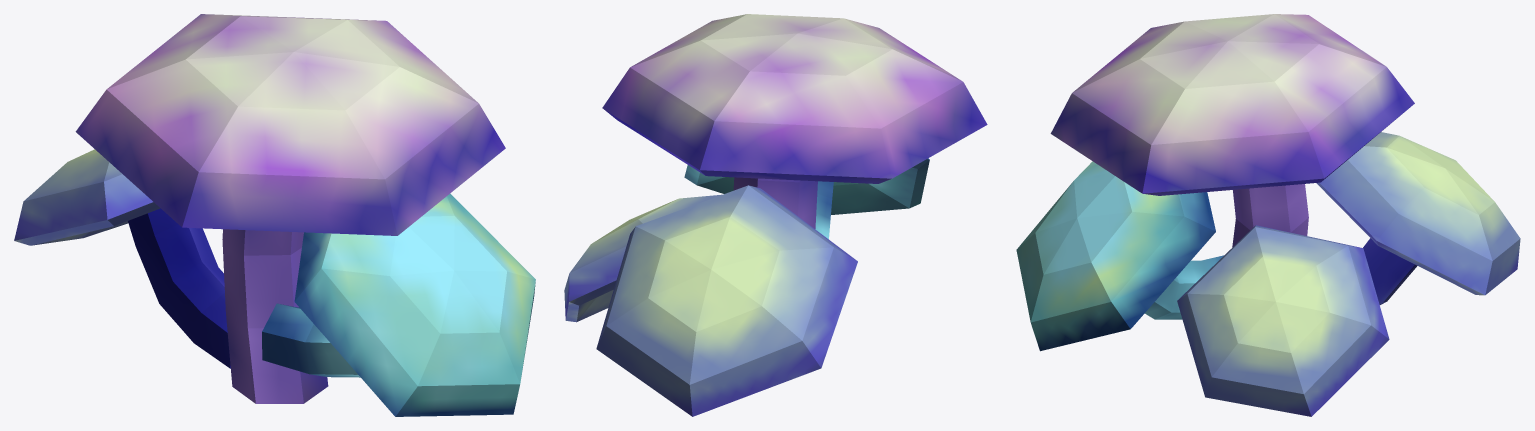
File: mushroom_cluster_01.fbx
3 views of the same model, side by side, from view 1: azimuth 30°, elevation 25°; view 2: azimuth 150°, elevation 25°; view 3: azimuth 270°, elevation 25° (orthographic). The views are drawn at different scales.
Parts seen in each view (by area): view 1: mushroom_cluster_og; view 2: mushroom_cluster_og; view 3: mushroom_cluster_og.
Part boxes in pixels (bbox=[...]): mushroom_cluster_og: bbox=[14, 14, 535, 416]; mushroom_cluster_og: bbox=[564, 14, 987, 416]; mushroom_cluster_og: bbox=[1016, 14, 1520, 416].
Size of the model in its own units: 0.6112 by 0.5621 by 0.8248.
Materials: 1 (1 with a texture image).
